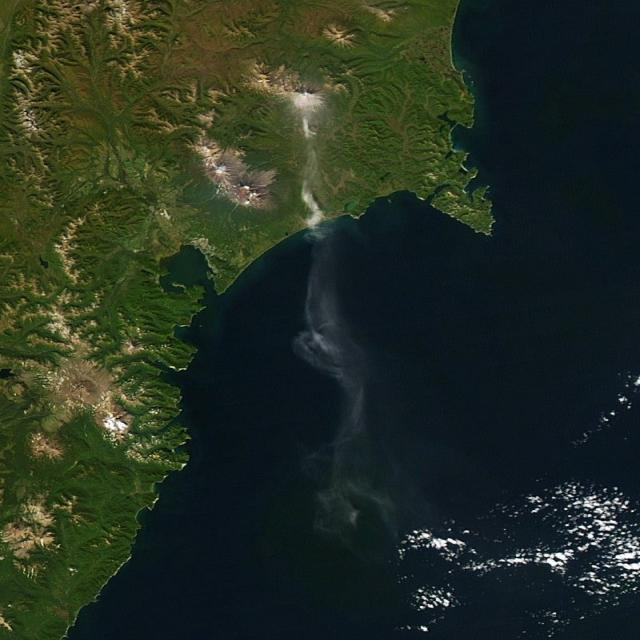oil spill: (294, 226, 396, 546)
